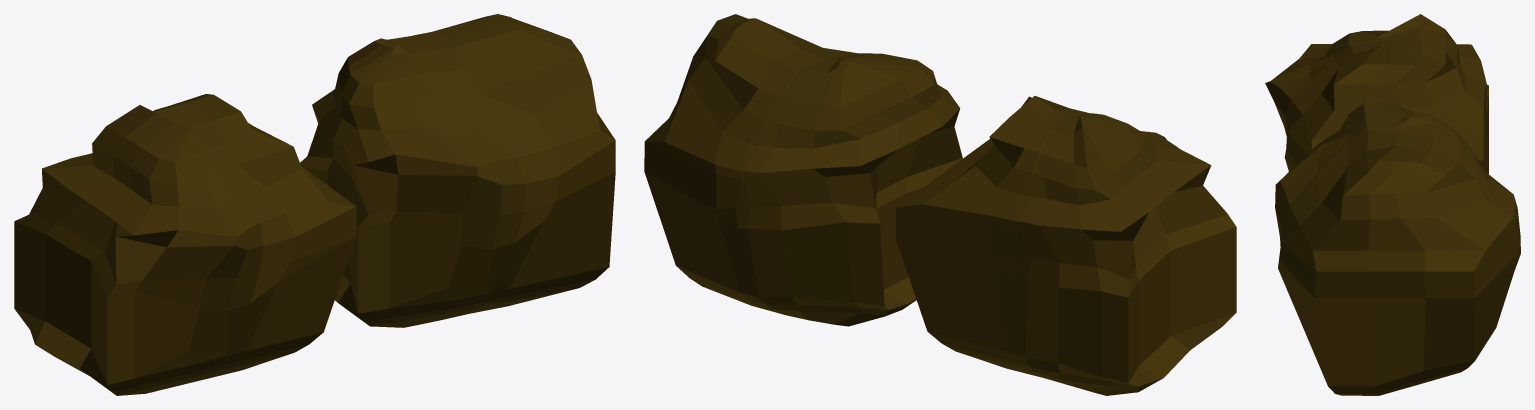
File: Rocks.fbx
3 renders of one model, left to right at view 1: azimuth 30°, elevation 25°; view 2: azimuth 150°, elevation 25°; view 3: azimuth 270°, elevation 25°, orthographic. The views are drawn at different scales.
Parts seen in each view (by area): view 1: Cube, Cube.002; view 2: Cube, Cube.002; view 3: Cube.002, Cube.
Boxes of the visible parts, left/top/right/bottom form: Cube: left=14, top=94, right=356, bottom=395; Cube.002: left=300, top=14, right=615, bottom=327; Cube: left=895, top=96, right=1236, bottom=395; Cube.002: left=644, top=14, right=962, bottom=326; Cube.002: left=1275, top=101, right=1520, bottom=395; Cube: left=1265, top=14, right=1488, bottom=173.
Bounding box in the file's own units: 413 × 201 × 204.
